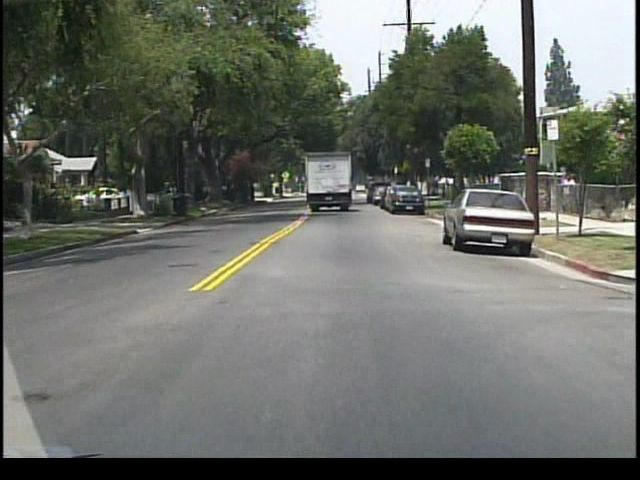person: (560, 172, 577, 215)
